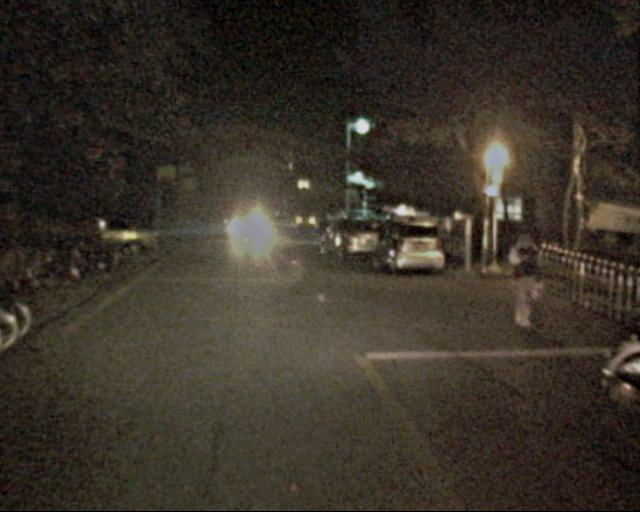person: (499, 228, 547, 334)
